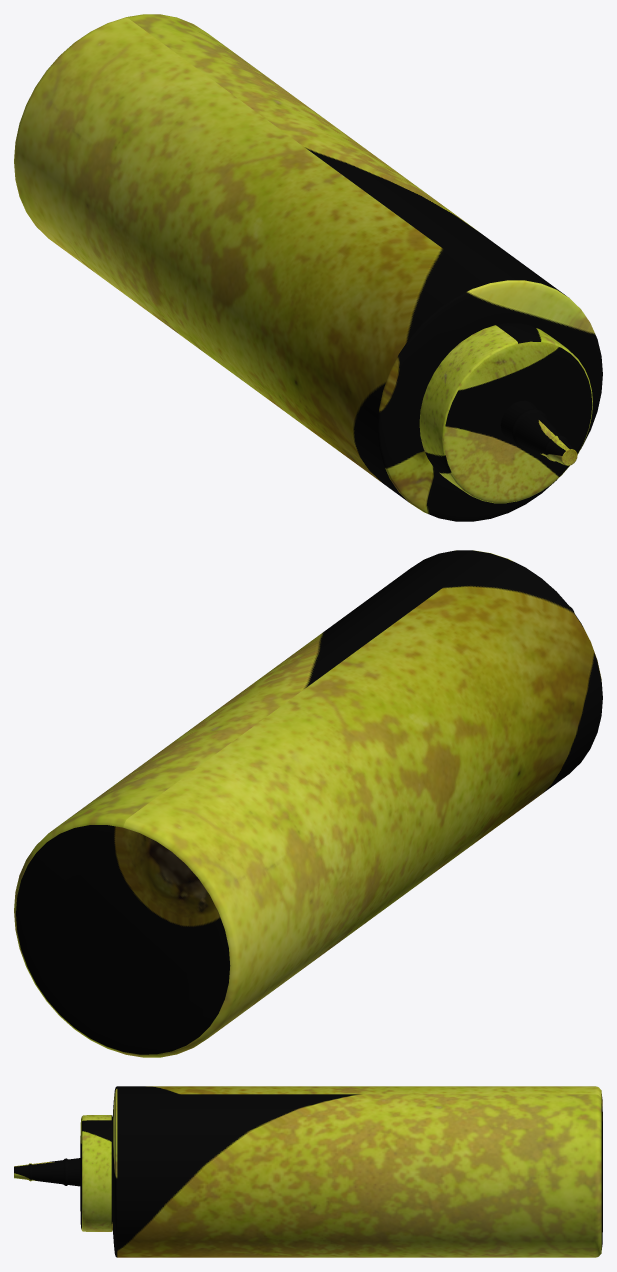
3 views of the same model, one above another, from view 1: azimuth 30°, elevation 25°; view 2: azimuth 150°, elevation 25°; view 3: azimuth 270°, elevation 25° (orthographic). The views are drawn at different scales.
Size of the model in its own units: 0.2911 by 0.2911 by 1.
